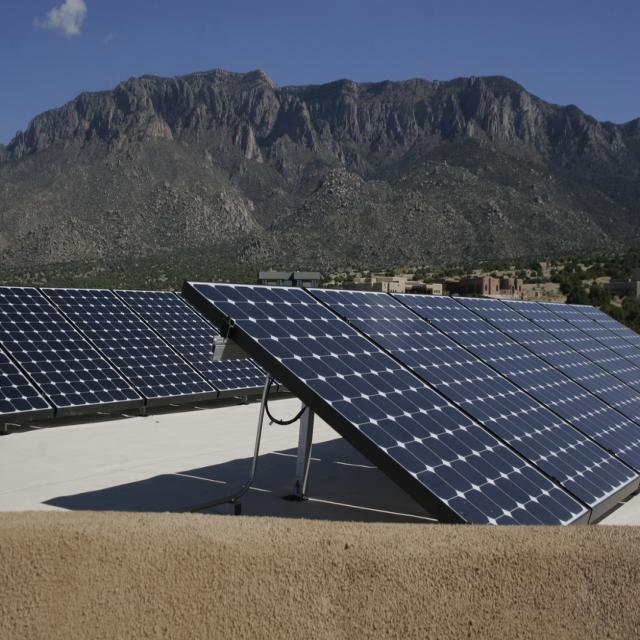clean-solar-panel: (182, 281, 640, 525), (1, 287, 264, 424)
